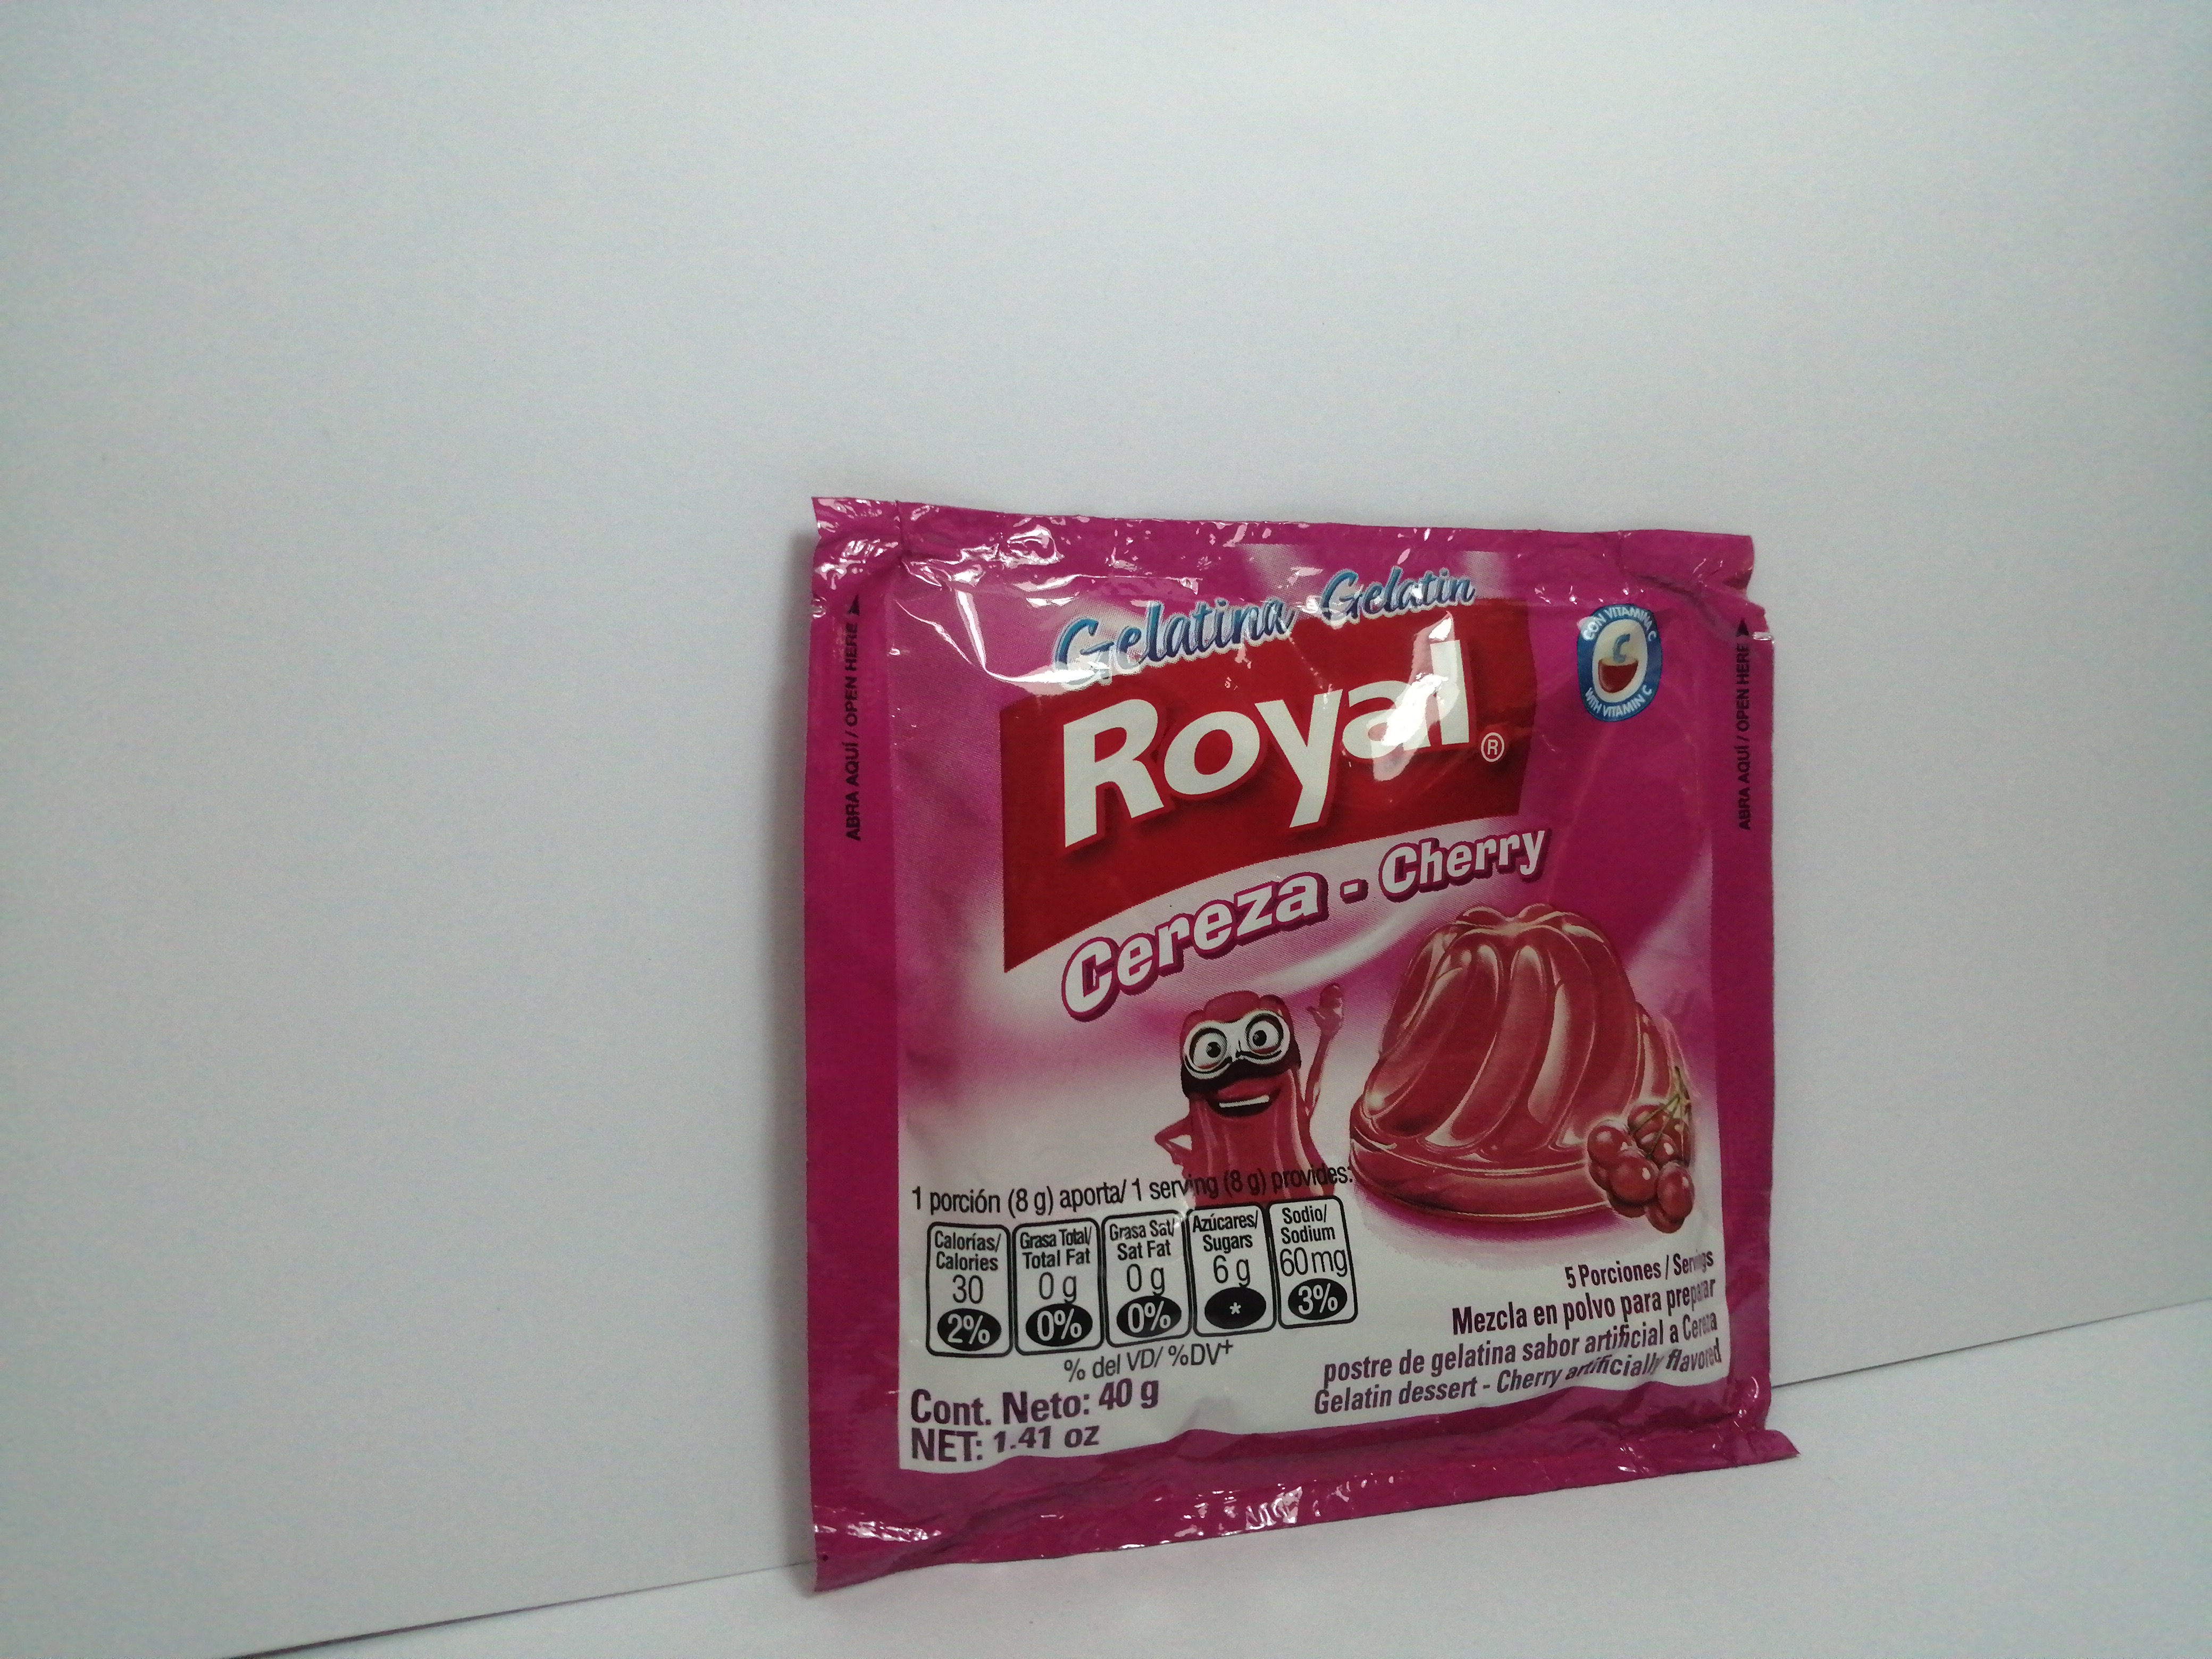gelatina: (805, 495, 1808, 1568)
